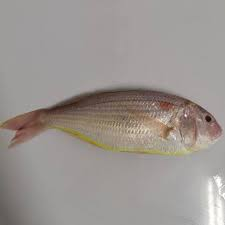Ikan Kerisi: (9, 79, 225, 173)
